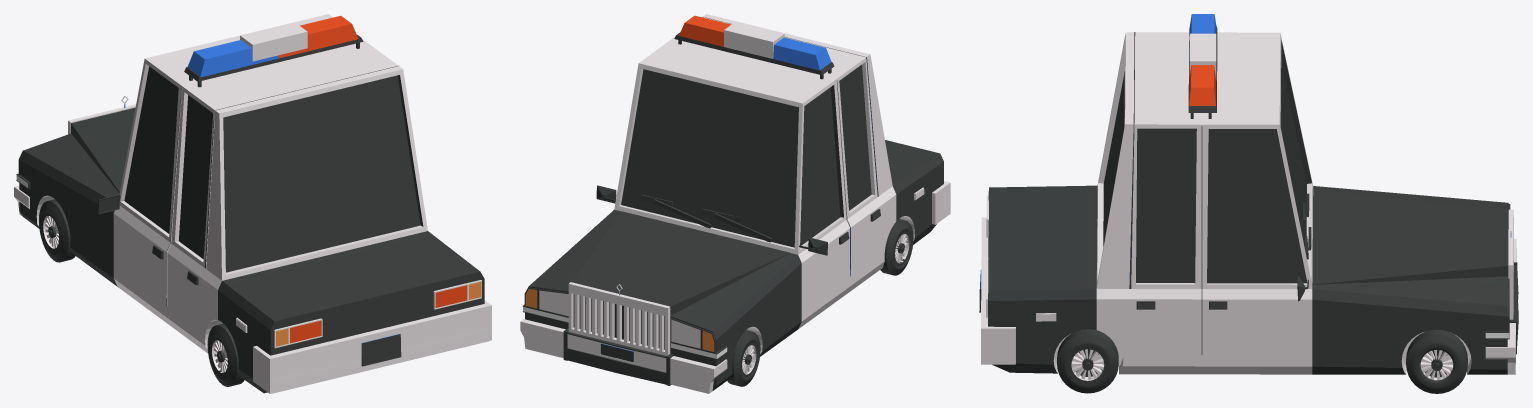
The model's file is PoliceCar.fbx.
The picture shows the model from 3 angles, left to right: view 1: azimuth 30°, elevation 25°; view 2: azimuth 150°, elevation 25°; view 3: azimuth 270°, elevation 25°; orthographic projection. The views are drawn at different scales.
Parts seen in each view (by area): view 1: PoliceCar; view 2: PoliceCar; view 3: PoliceCar.
Boxes of the visible parts, x1,y1,x2,y2 form: PoliceCar: (14, 14, 491, 393); PoliceCar: (520, 14, 950, 393); PoliceCar: (979, 14, 1518, 393).
Bounding box in the file's own units: 4.16 × 4.39 × 7.33.
Materials: 1 (1 with a texture image).
